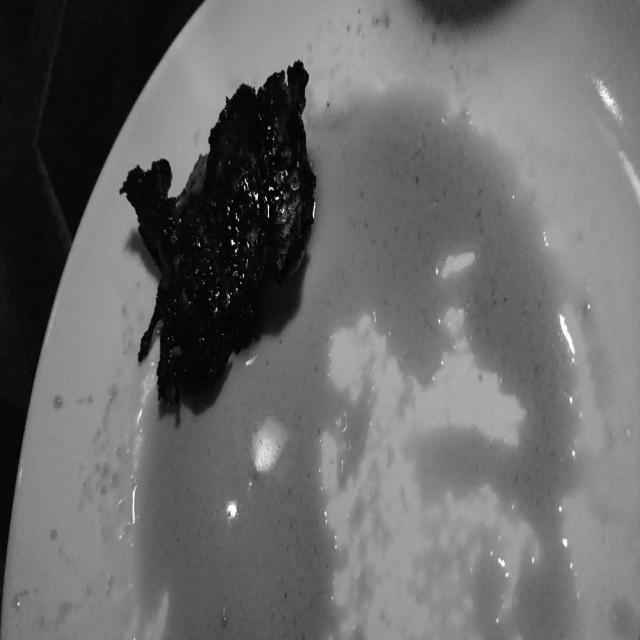overcooked beef,: (110, 56, 315, 415)
